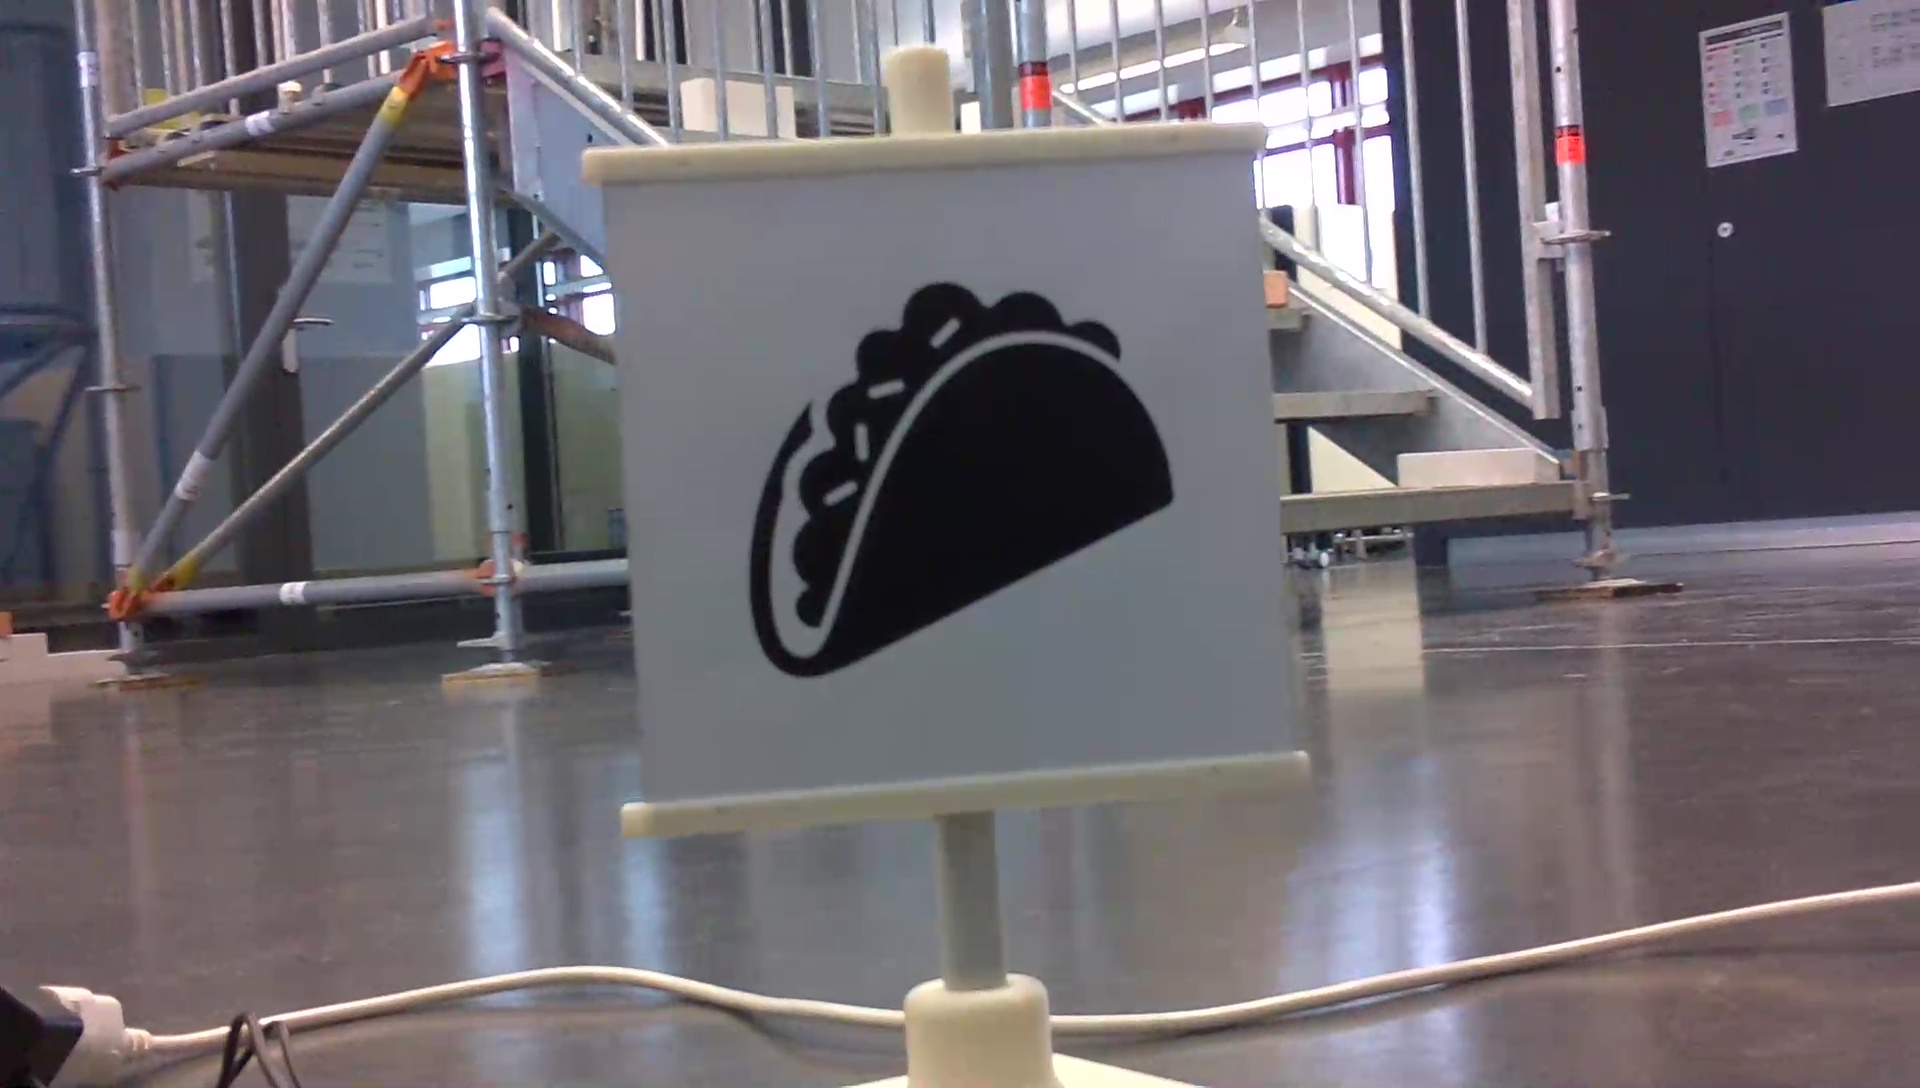brick: (1396, 448, 1534, 483)
taco: (736, 268, 1189, 687)
